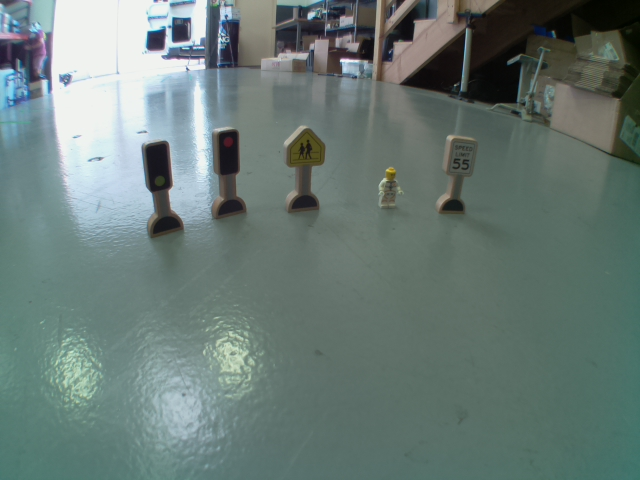Green Traffic Light: (144, 143, 179, 192)
Red Traffic Light: (213, 128, 244, 174)
Speed Limit 55: (447, 135, 476, 176)
YIELD: (280, 121, 329, 172)
person: (377, 165, 404, 209)
